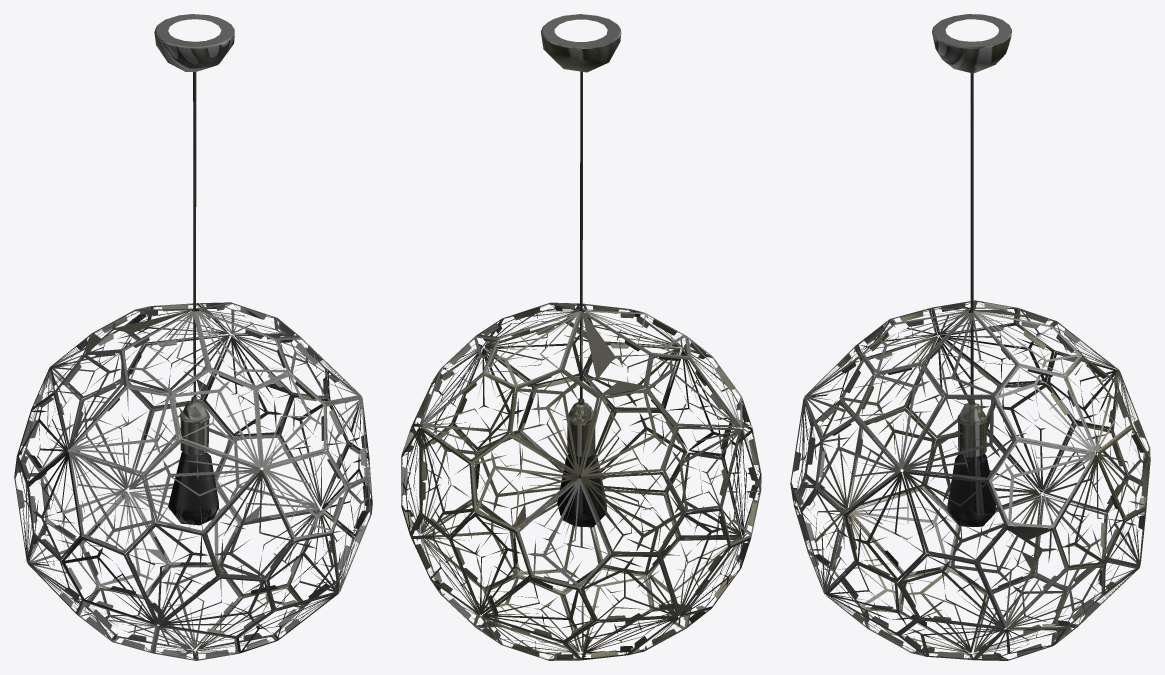
Rendered from Pendant_Lamp_74328832-5c9a-599d-8ec5-ddd5299d55c7.glb.
The picture shows the model from 3 angles, left to right: view 1: azimuth 30°, elevation 25°; view 2: azimuth 150°, elevation 25°; view 3: azimuth 270°, elevation 25°; orthographic projection.
Visible parts, largest first — view 1: raw_model.obj; view 2: raw_model.obj; view 3: raw_model.obj.
Boxes of the visible parts, left/top/right/bottom form: raw_model.obj: left=14, top=14, right=372, bottom=660; raw_model.obj: left=401, top=14, right=761, bottom=660; raw_model.obj: left=790, top=14, right=1150, bottom=660.
Size of the model in its own units: 0.5365 by 1.02 by 0.5337.
Materials: 1 (1 with a texture image).
